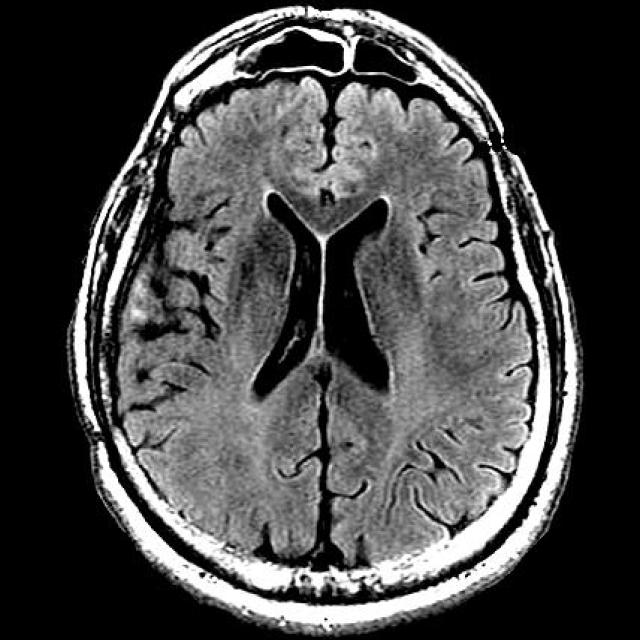no-tumor: (191, 121, 469, 459)
